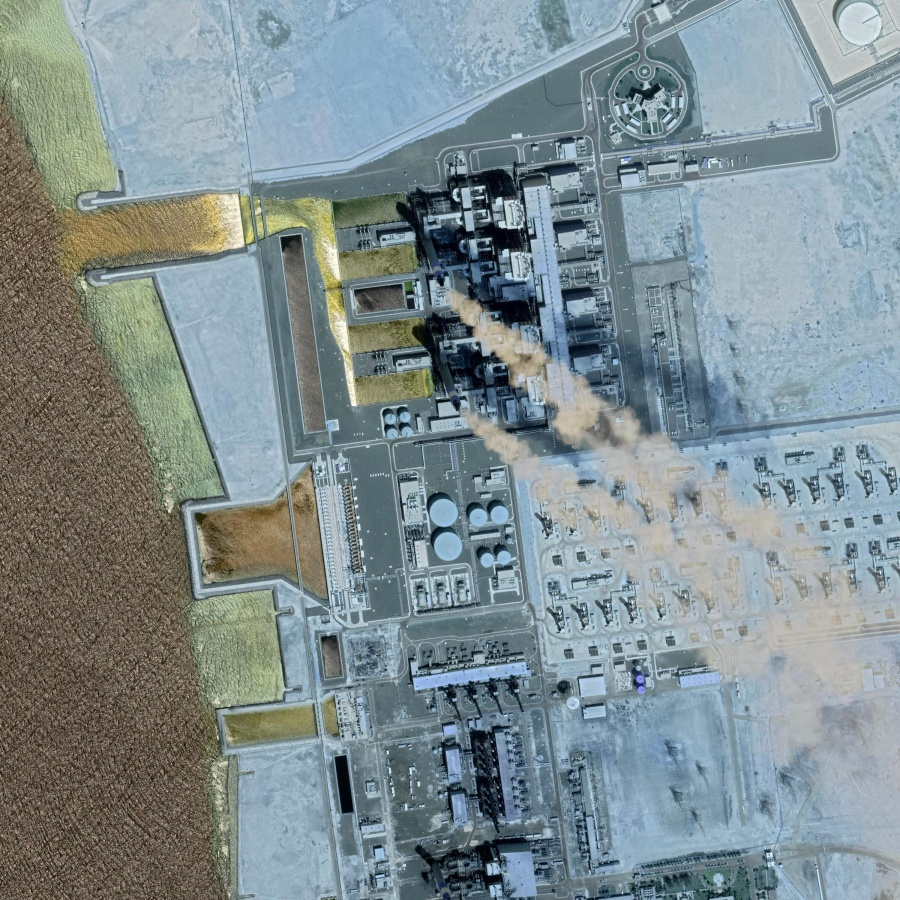PowerPlant: (317, 155, 760, 563)
